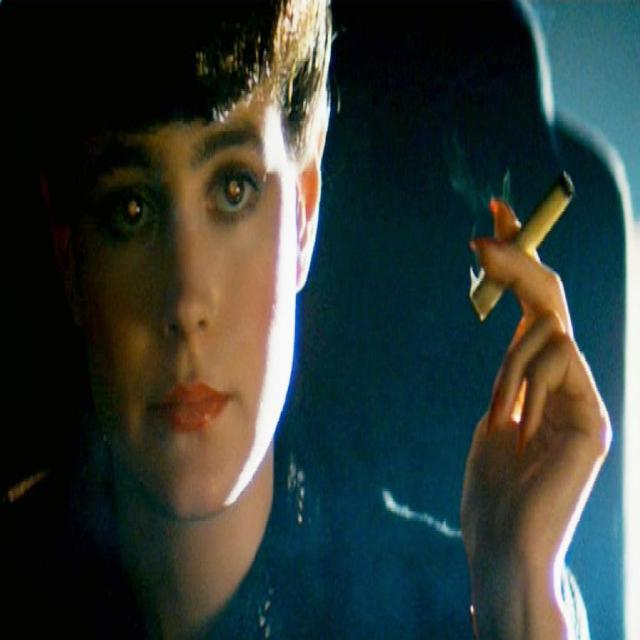smoking: (48, 6, 607, 543)
